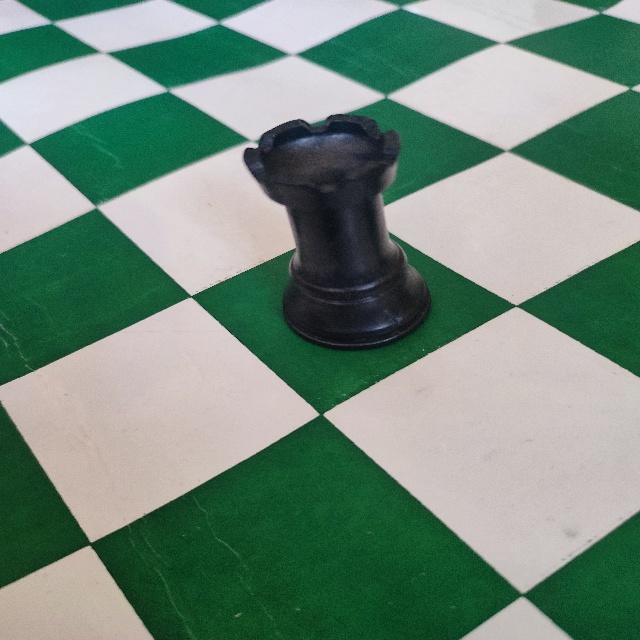Rook: (237, 110, 439, 357)
